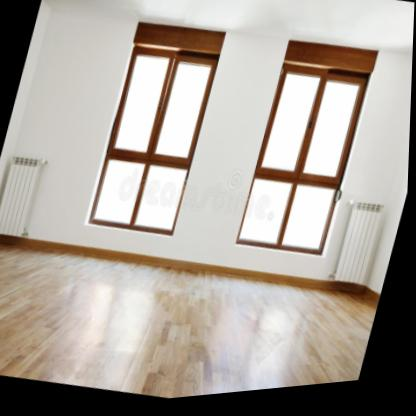Window: (87, 15, 228, 247), (237, 40, 378, 268)
Wooden floor: (0, 239, 383, 402)
